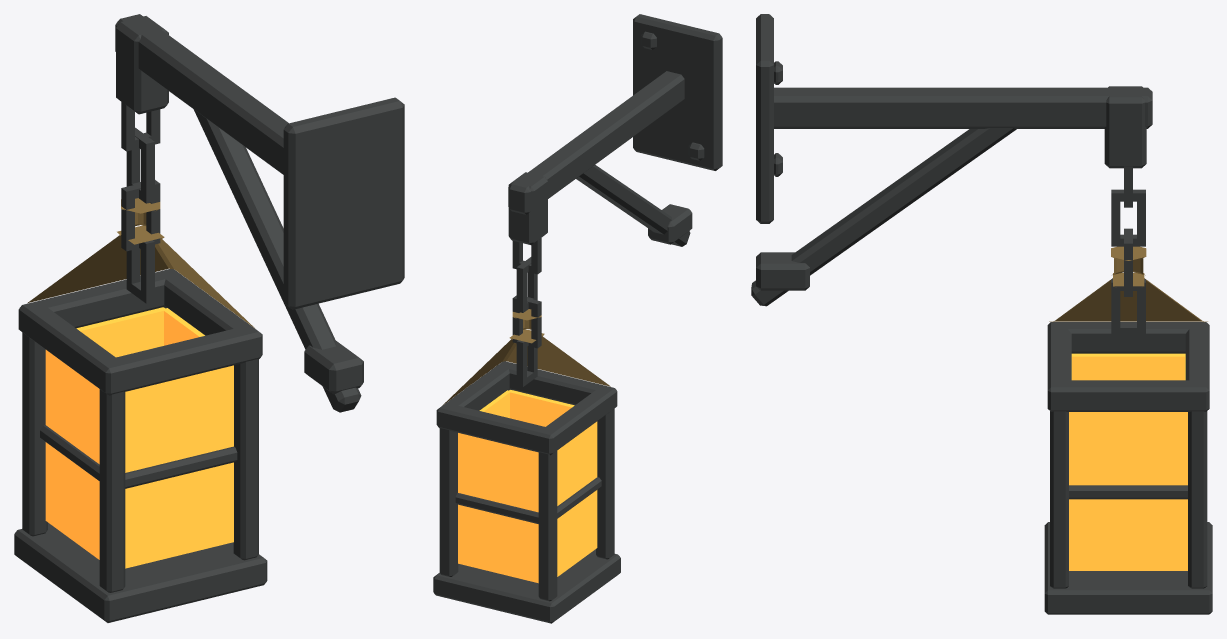
Rendered from door_lantern.glb.
3 renders of one model, left to right at view 1: azimuth 30°, elevation 25°; view 2: azimuth 150°, elevation 25°; view 3: azimuth 270°, elevation 25°, orthographic. The views are drawn at different scales.
Visible parts, largest first — view 1: lantern_cage, lantern_bracket, lantern_glass, lantern_chain, lantern_brass; view 2: lantern_cage, lantern_bracket, lantern_glass, lantern_chain, lantern_brass; view 3: lantern_bracket, lantern_cage, lantern_glass, lantern_brass, lantern_chain.
Boxes of the visible parts, x1,y1,x2,y2 form: lantern_cage: (14, 269, 267, 622); lantern_bracket: (115, 14, 404, 412); lantern_glass: (45, 307, 233, 568); lantern_chain: (121, 102, 160, 303); lantern_brass: (27, 198, 254, 327); lantern_cage: (433, 361, 620, 623); lantern_bracket: (508, 14, 722, 246); lantern_glass: (458, 390, 597, 583); lantern_chain: (512, 237, 541, 386); lantern_brass: (442, 309, 610, 405); lantern_bracket: (751, 14, 1152, 306); lantern_cage: (1044, 322, 1212, 614); lantern_glass: (1069, 353, 1187, 570); lantern_brass: (1049, 246, 1207, 322); lantern_chain: (1111, 166, 1145, 335).
Size of the model in its own units: 0.28 by 1.06 by 0.768.
